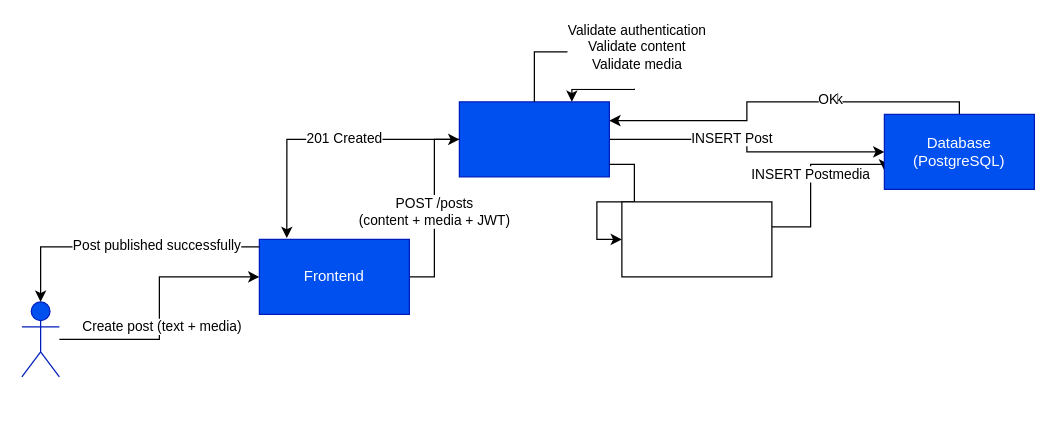
The diagram is 1056 pixels wide and 424 high, and some of its shapes have lost their labels. Each missing label, with the centre of its shape:
"API (Django / DRF)" belongs at [533,139].
"loop: for each media" belongs at [696,239].
